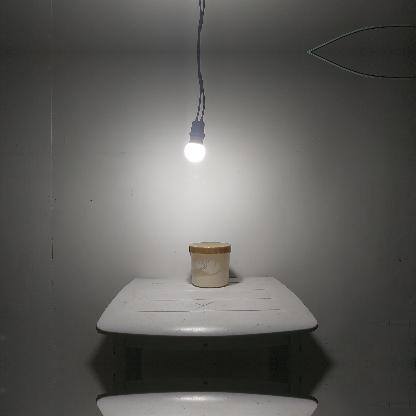Lady-s-Choice: (188, 241, 232, 287)
